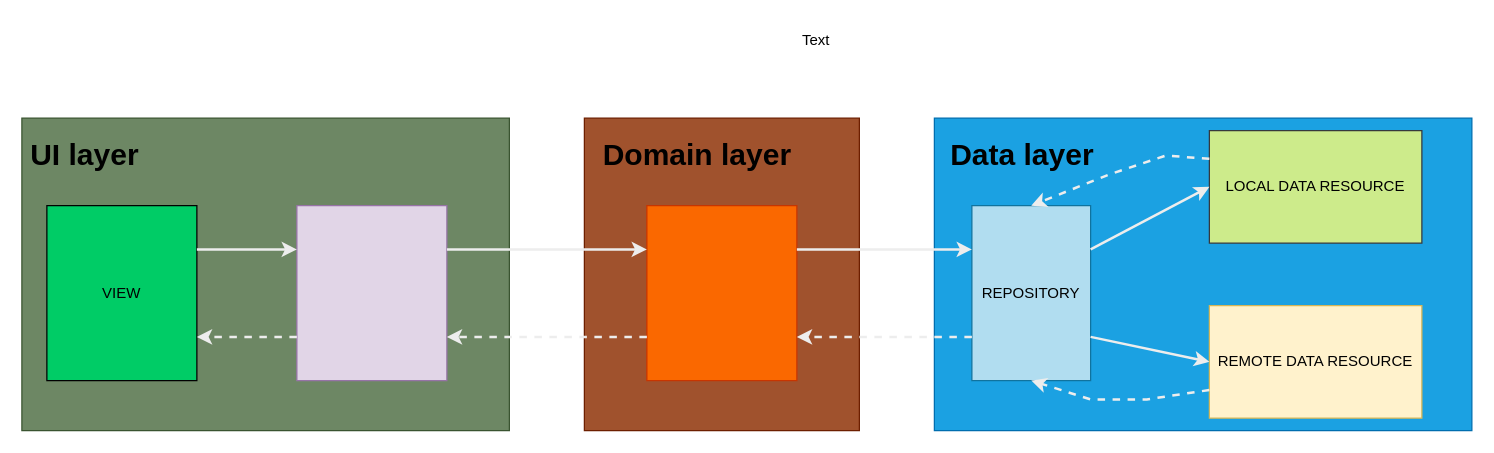
Some shapes in this 1494 by 453 pixel diagram are drawn without their labels. Here are the shapes that lost their labels. From the top down, the centre of each, then its label:
[371,292]: VIIEWMODEL
[721,292]: USECASE
